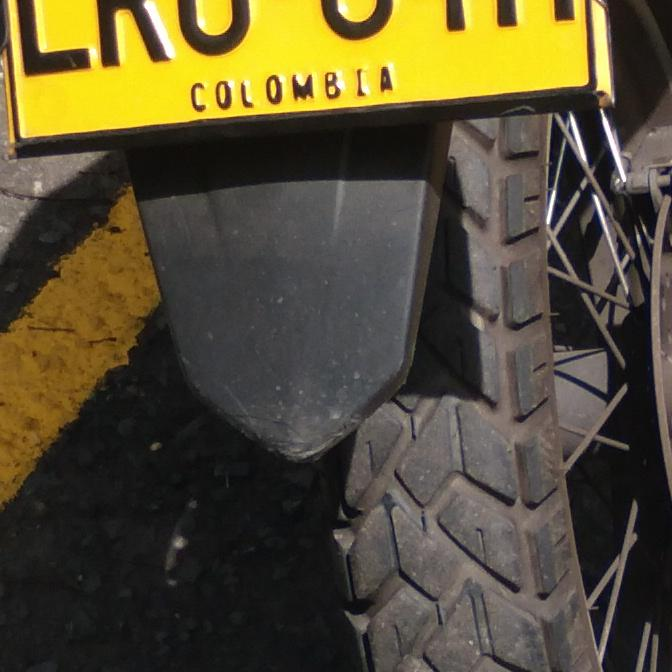plates: (0, 0, 610, 158)
